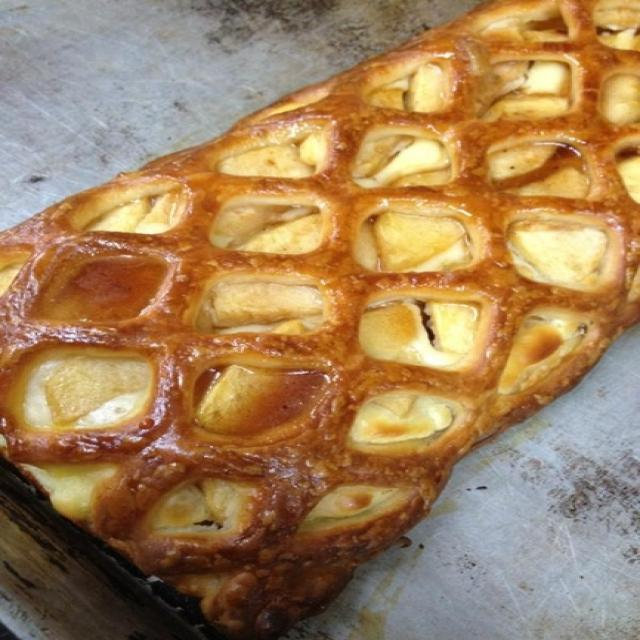炸货点心: (18, 31, 631, 616)
蛋糕甜品: (18, 31, 631, 616)
